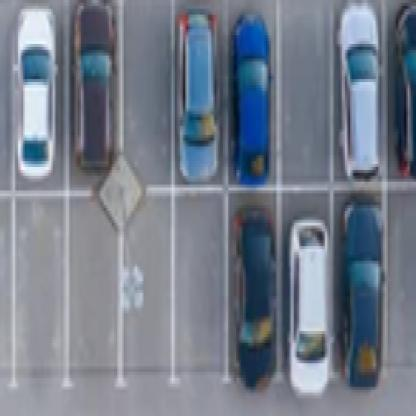Car: (16, 13, 62, 161), (340, 21, 376, 172), (241, 209, 275, 352), (234, 27, 268, 165), (79, 14, 110, 161), (184, 26, 214, 168), (126, 0, 155, 141), (293, 236, 323, 365), (346, 212, 374, 350), (395, 33, 415, 164)
Empty: (284, 37, 324, 165), (26, 205, 58, 356), (79, 223, 113, 364), (131, 220, 161, 374), (183, 239, 215, 362), (400, 223, 415, 332)
